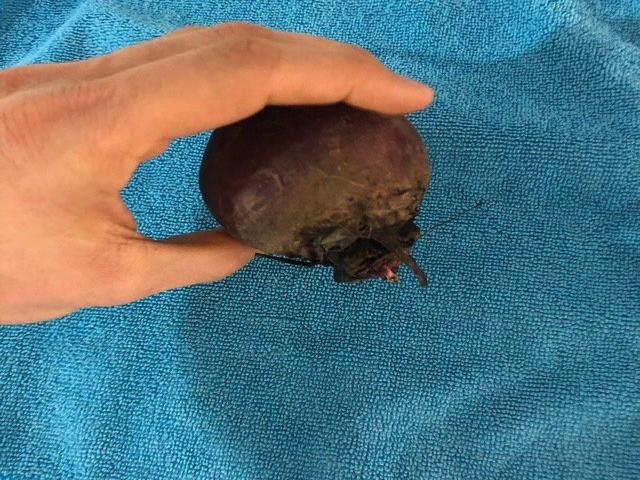beet: (201, 104, 429, 286)
